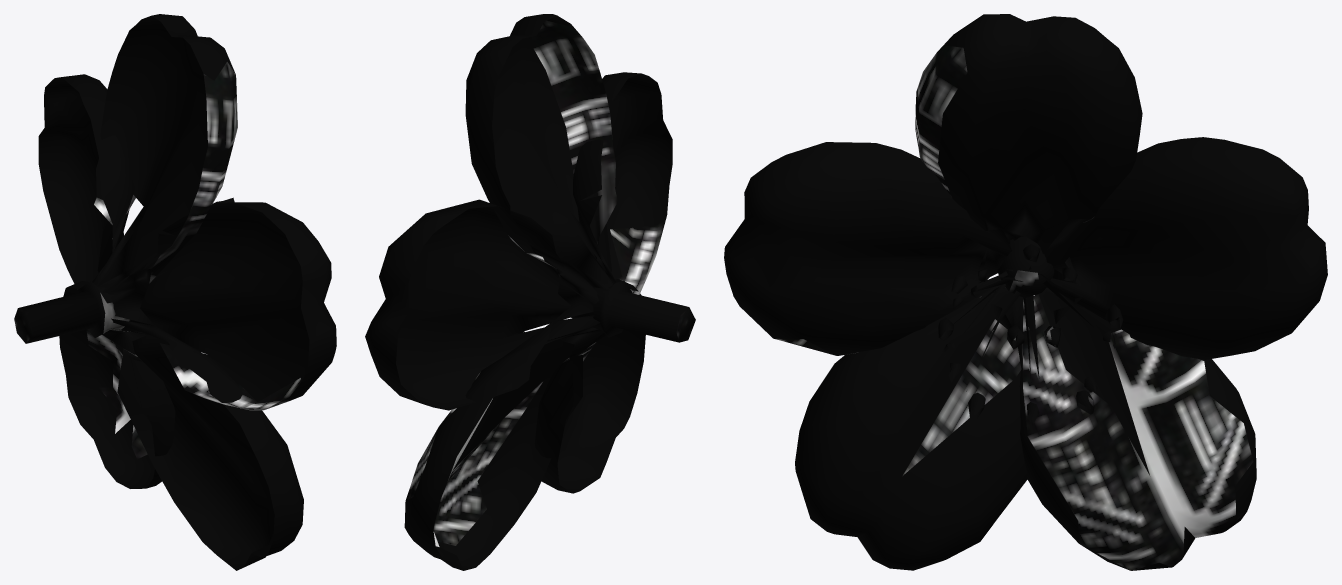
3 renders of one model, left to right at view 1: azimuth 30°, elevation 25°; view 2: azimuth 150°, elevation 25°; view 3: azimuth 270°, elevation 25°, orthographic. The views are drawn at different scales.
Visible parts, largest first — view 1: tripo_node_9f37003d-00e4-46ad-b435-aad72360b564.001; view 2: tripo_node_9f37003d-00e4-46ad-b435-aad72360b564.001; view 3: tripo_node_9f37003d-00e4-46ad-b435-aad72360b564.001.
Part boxes in pixels (<box>): tripo_node_9f37003d-00e4-46ad-b435-aad72360b564.001: <box>14,14,336,570</box>; tripo_node_9f37003d-00e4-46ad-b435-aad72360b564.001: <box>365,14,695,570</box>; tripo_node_9f37003d-00e4-46ad-b435-aad72360b564.001: <box>724,14,1327,570</box>.
Size of the model in its own units: 47.99 by 100 by 100.
